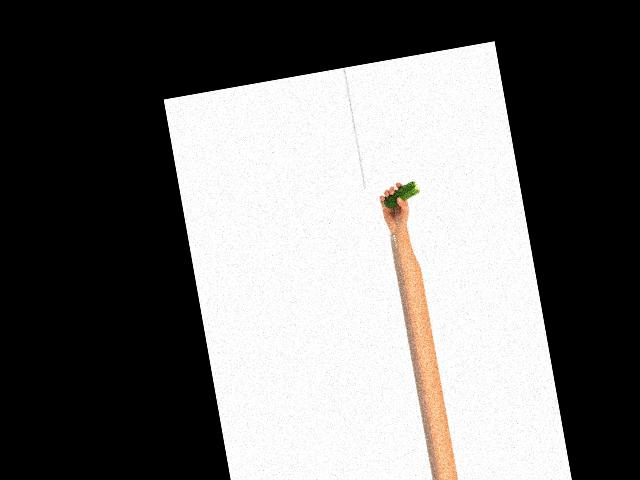cucumber: (380, 181, 421, 209)
